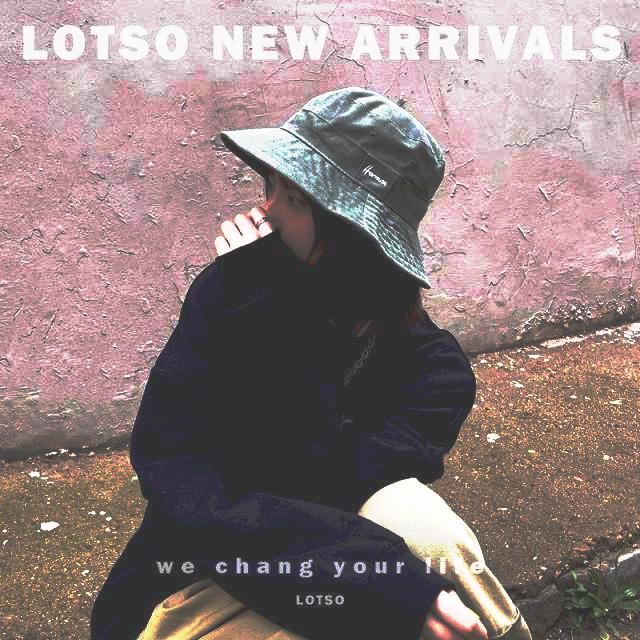TOPI: (220, 84, 438, 294)
